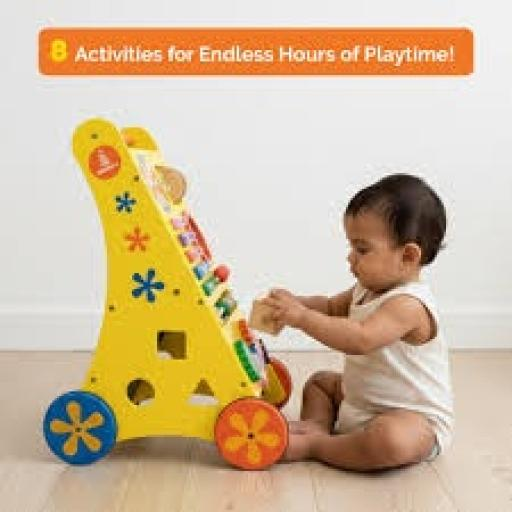baby: (262, 173, 455, 471)
